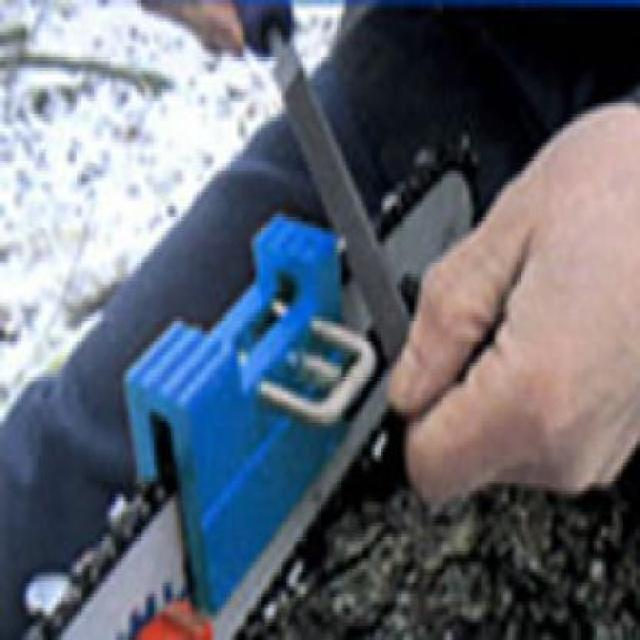Chainsaw: (9, 135, 498, 637)
